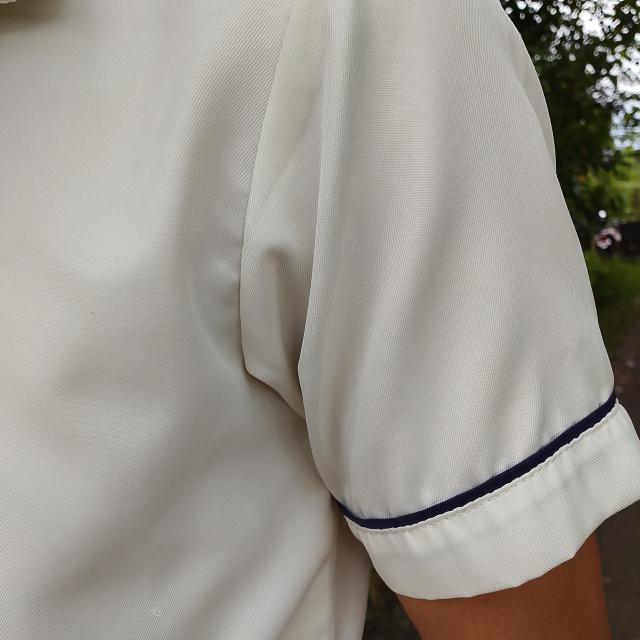education_male_uniform: (4, 1, 640, 604)
